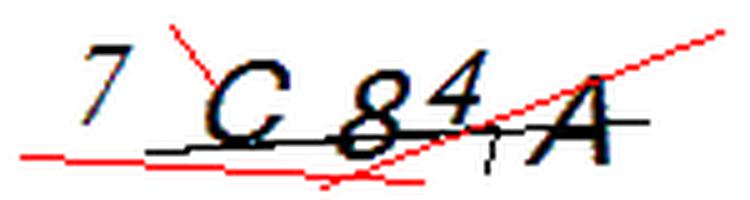4: (417, 42, 506, 133)
7: (68, 35, 138, 133)
8: (328, 61, 418, 170)
A: (521, 70, 663, 177)
C: (199, 53, 301, 154)
